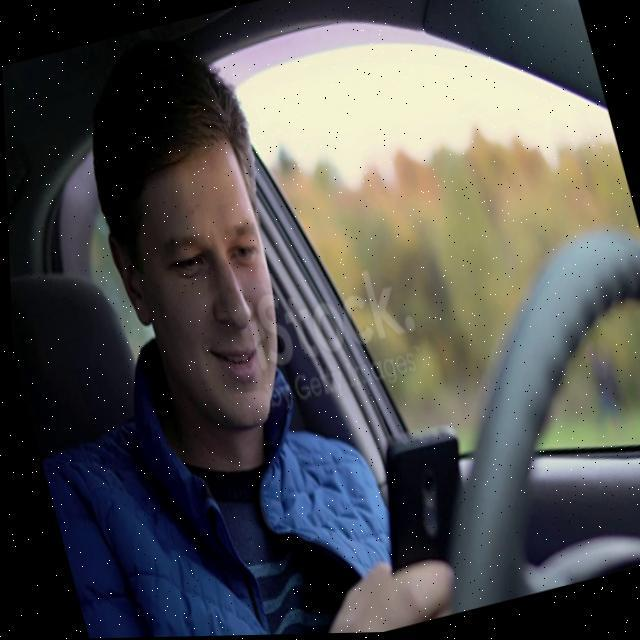PhoneCall: (348, 422, 488, 606)
